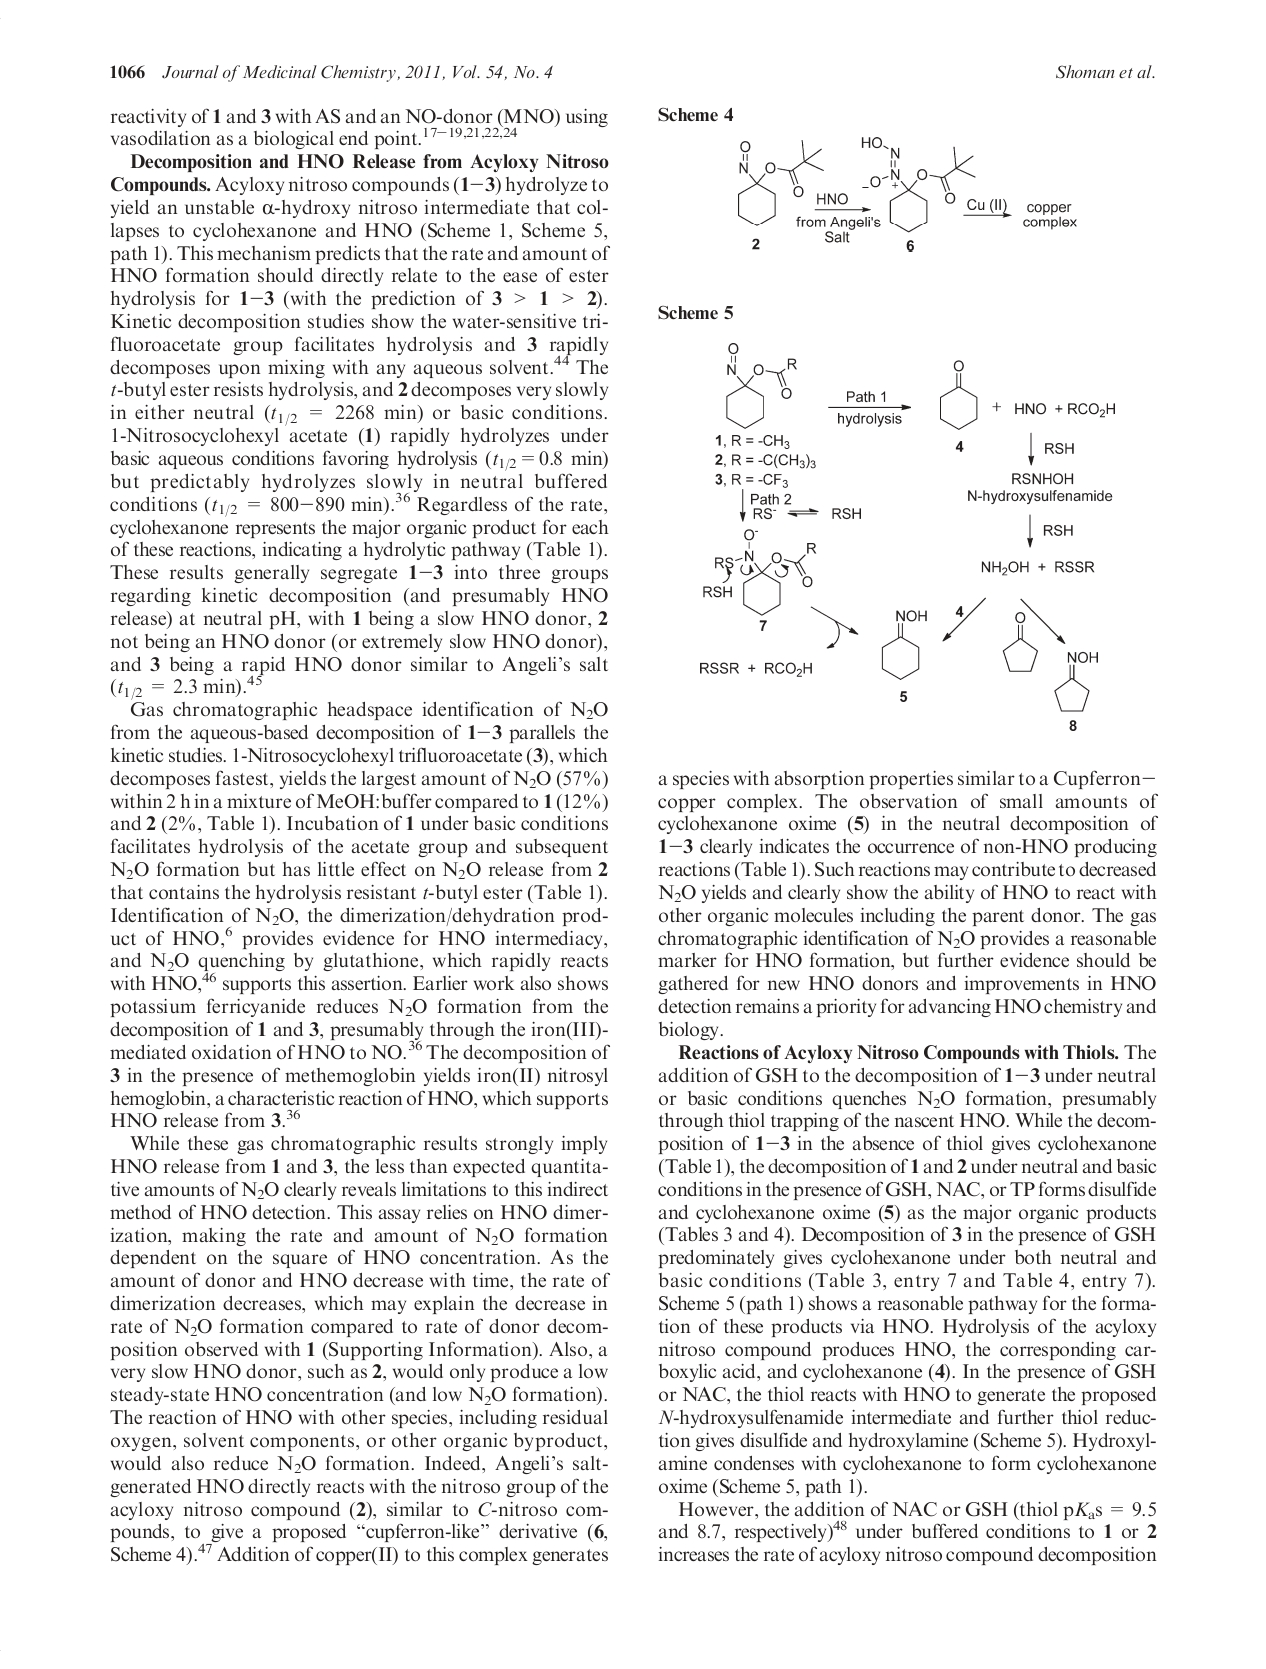exist_molecular: (858, 130, 976, 234), (696, 523, 823, 618), (731, 130, 827, 227), (719, 336, 799, 430), (878, 605, 932, 684), (934, 354, 987, 434), (1052, 646, 1102, 717), (997, 608, 1039, 677)
